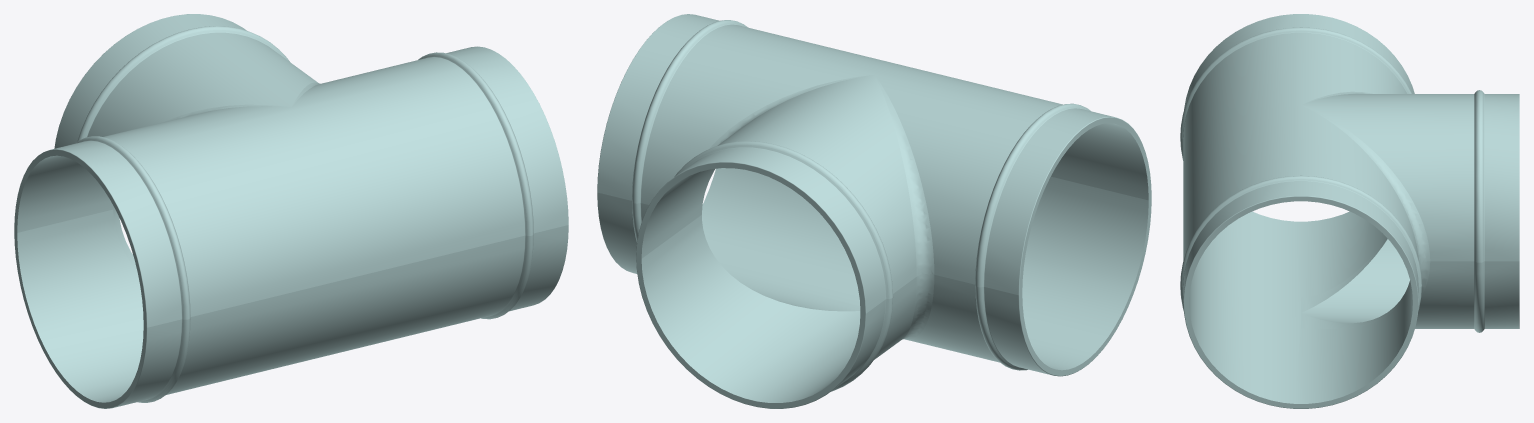
The picture shows the model from 3 angles, left to right: view 1: azimuth 30°, elevation 25°; view 2: azimuth 150°, elevation 25°; view 3: azimuth 270°, elevation 25°; orthographic projection. The views are drawn at different scales.
Size of the model in its own units: 375 by 211 by 295.
